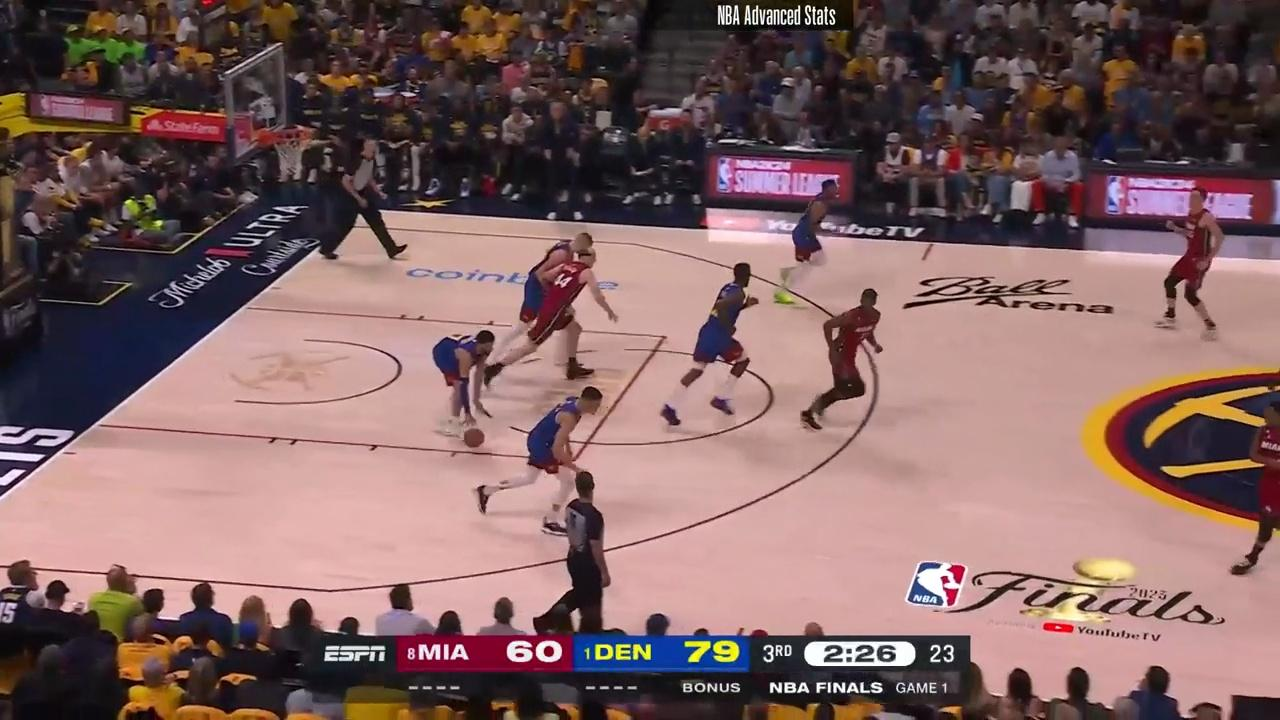Backboard: (226, 41, 291, 156)
Ball: (464, 429, 485, 448)
Basket: (271, 128, 312, 179)
Person: (481, 385, 598, 528), (505, 235, 611, 383), (796, 282, 892, 439), (676, 263, 769, 424), (1158, 195, 1230, 337), (1237, 385, 1280, 587), (437, 324, 505, 445), (778, 183, 832, 287)
Referee: (546, 467, 620, 622), (328, 134, 410, 265)
